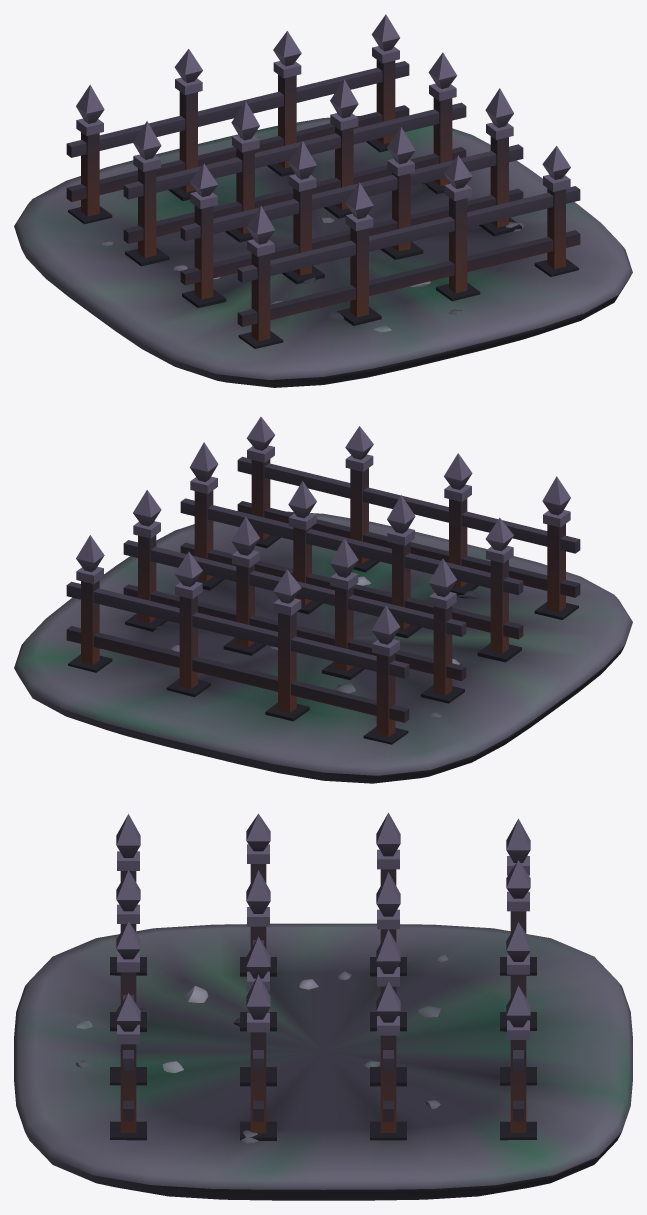
Rendered from spikes_haunted.glb.
3 renders of one model, top to bottom at view 1: azimuth 30°, elevation 25°; view 2: azimuth 150°, elevation 25°; view 3: azimuth 270°, elevation 25°, orthographic. The views are drawn at different scales.
Visible parts, largest first — view 1: spikes_haunted; view 2: spikes_haunted; view 3: spikes_haunted.
Part boxes in pixels (box(x1,y1,x2,y2)): spikes_haunted: box(14, 14, 632, 387); spikes_haunted: box(14, 417, 632, 783); spikes_haunted: box(14, 812, 632, 1200).
Bounding box in the file's own units: 2 × 0.6971 × 2.
